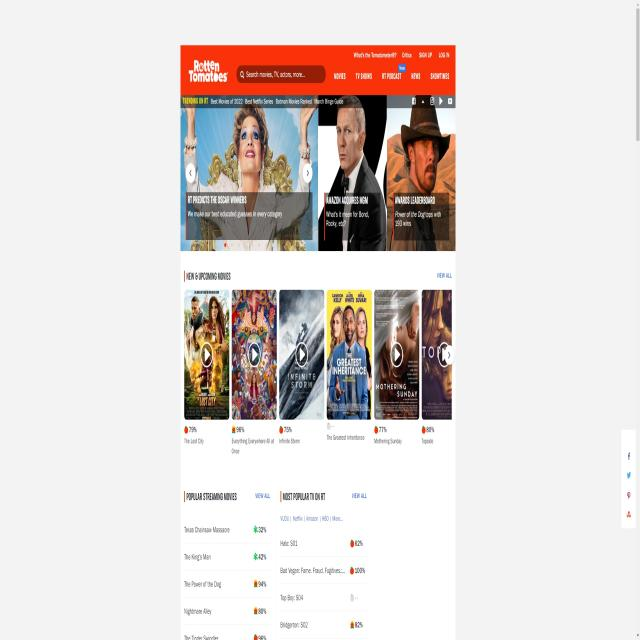menu-bar: (346, 43, 456, 65)
search: (233, 56, 327, 84)
tab-bar: (332, 68, 450, 84)
